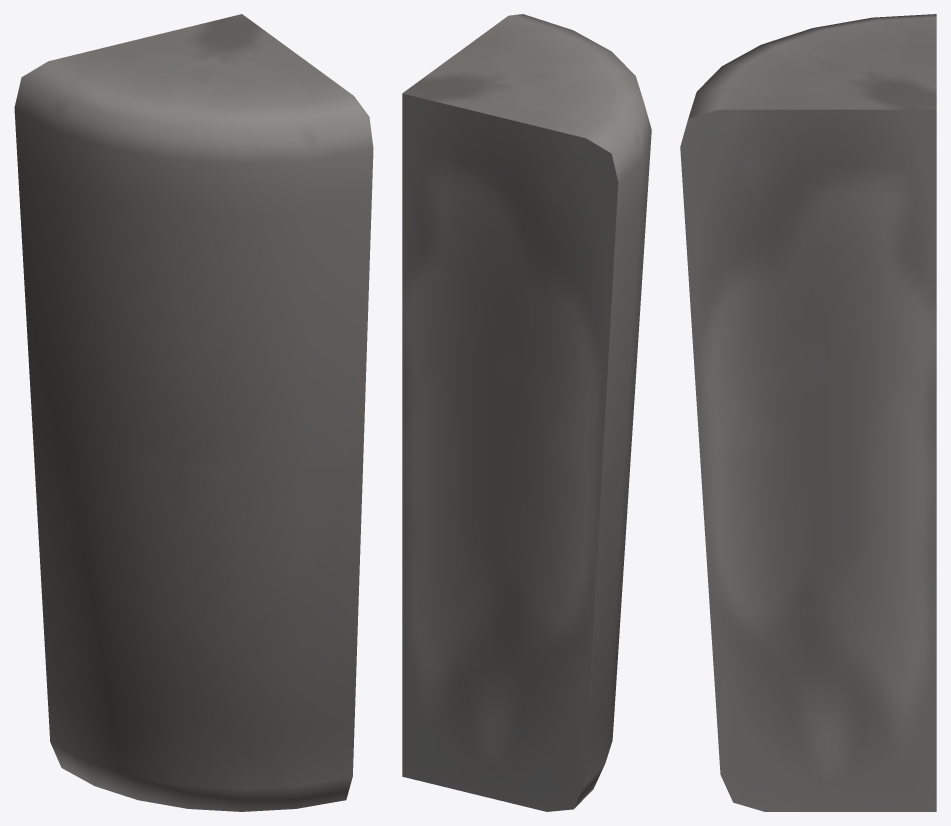
File: PropTrimFacade02_2A.FBX
The picture shows the model from 3 angles, left to right: view 1: azimuth 30°, elevation 25°; view 2: azimuth 150°, elevation 25°; view 3: azimuth 270°, elevation 25°; orthographic projection. The views are drawn at different scales.
Visible parts, largest first — view 1: PropTrimFacade02_2A; view 2: PropTrimFacade02_2A; view 3: PropTrimFacade02_2A.
Part boxes in pixels (x1,y1,x2,y2): PropTrimFacade02_2A: [14, 14, 373, 811]; PropTrimFacade02_2A: [402, 14, 651, 811]; PropTrimFacade02_2A: [680, 14, 936, 811].
Size of what is drawn, in the model's own units: 0.2483 by 0.75 by 0.2483.
